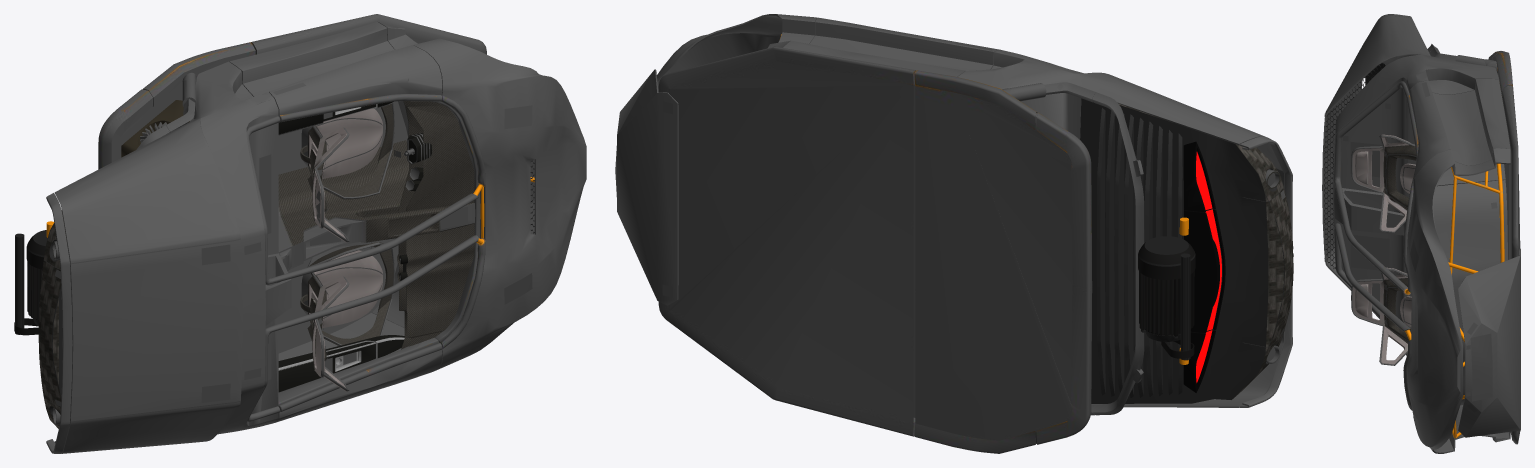
File: chassis.gltf
The picture shows the model from 3 angles, left to right: view 1: azimuth 30°, elevation 25°; view 2: azimuth 150°, elevation 25°; view 3: azimuth 270°, elevation 25°; orthographic projection. The views are drawn at different scales.
Visible parts, largest first — view 1: chassis; view 2: chassis; view 3: chassis.
Boxes of the visible parts, x1,y1,x2,y2 form: chassis: [14, 14, 586, 453]; chassis: [615, 14, 1293, 453]; chassis: [1322, 14, 1520, 453].
Size of the model in its own units: 3.59 by 2.04 by 1.18.
Materials: 18 (8 with a texture image).
